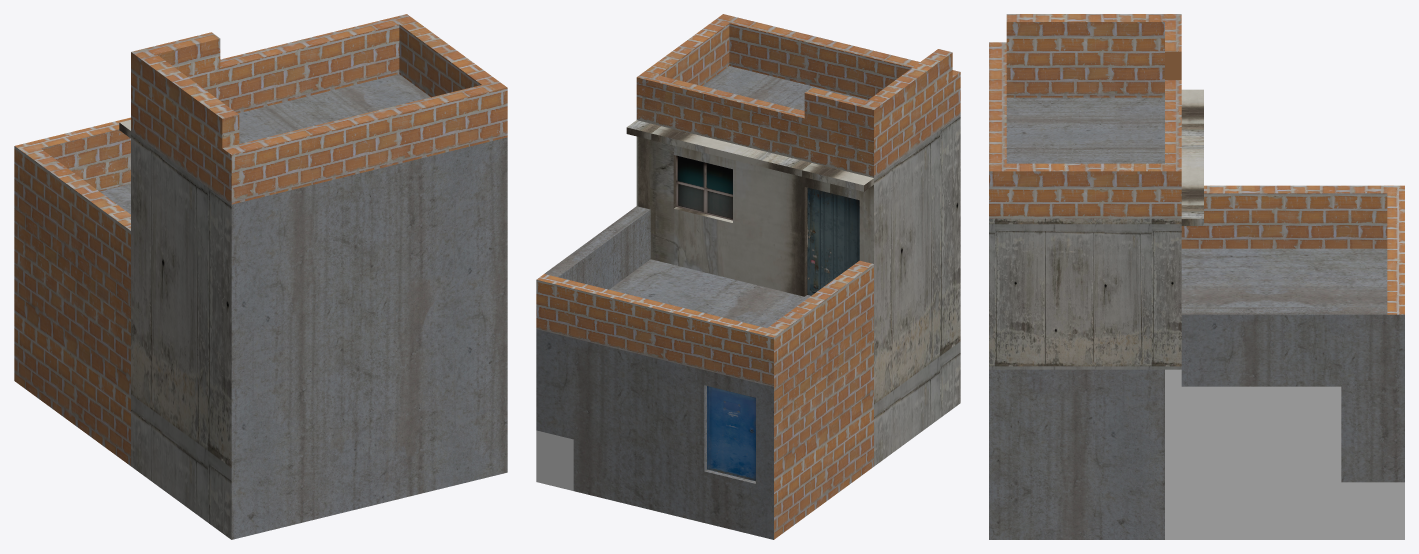
Rendered from casa2.glb.
3 views of the same model, side by side, from view 1: azimuth 30°, elevation 25°; view 2: azimuth 150°, elevation 25°; view 3: azimuth 270°, elevation 25° (orthographic). The views are drawn at different scales.
Parts seen in each view (by area): view 1: Cubo.002; view 2: Cubo.002; view 3: Cubo.002.
Boxes of the visible parts, x1,y1,x2,y2 form: Cubo.002: (14,14,507,539); Cubo.002: (536,14,960,539); Cubo.002: (989,14,1404,539).
Bounding box in the file's own units: 2.72 × 3.9 × 3.71.
Materials: 8 (7 with a texture image).
